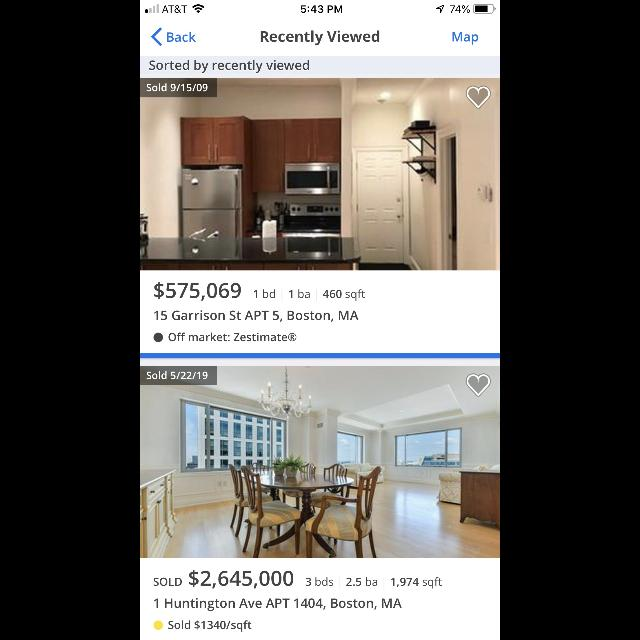icon: (466, 86, 490, 110), (466, 374, 490, 396), (152, 28, 162, 46)
image: (140, 79, 500, 271), (140, 366, 500, 558)
text: (154, 598, 402, 612), (154, 310, 358, 322), (149, 60, 309, 74), (261, 30, 379, 46), (189, 570, 293, 588), (155, 282, 241, 300), (154, 333, 296, 343), (168, 620, 252, 632), (391, 578, 442, 588), (323, 289, 365, 301), (146, 84, 208, 92), (146, 371, 208, 379), (453, 32, 479, 46), (347, 576, 378, 586), (167, 32, 195, 42), (154, 578, 182, 586), (306, 578, 334, 586), (254, 290, 276, 298), (288, 290, 310, 298)
uppertaskbar: (140, 0, 500, 14)
